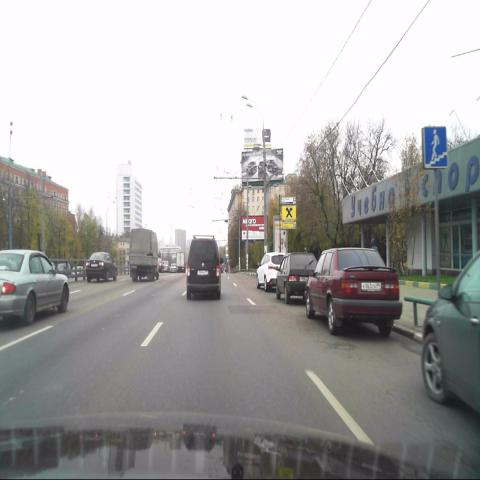6_6: (423, 125, 447, 167)
